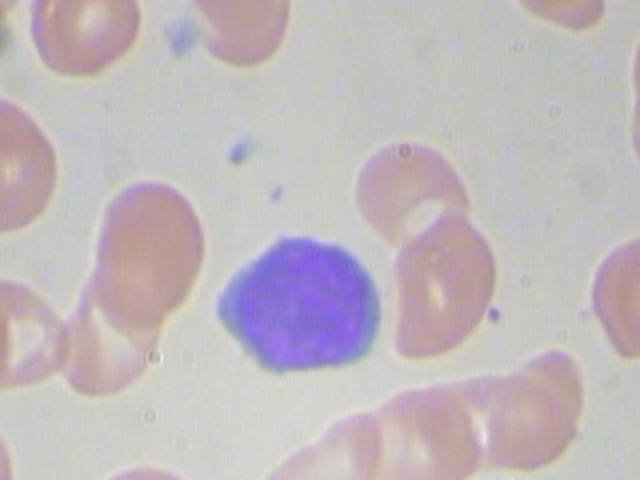Platelets: (162, 14, 202, 57), (220, 132, 258, 171)
RBC: (383, 208, 513, 364), (43, 247, 173, 403), (350, 124, 479, 256), (96, 178, 207, 305), (474, 359, 585, 480), (376, 370, 487, 480), (248, 400, 386, 480), (28, 0, 147, 88), (173, 0, 310, 76), (0, 95, 60, 242), (65, 452, 203, 480), (482, 0, 614, 18), (0, 272, 18, 397), (0, 397, 25, 480), (0, 0, 28, 31)
WBC: (201, 227, 387, 381)
